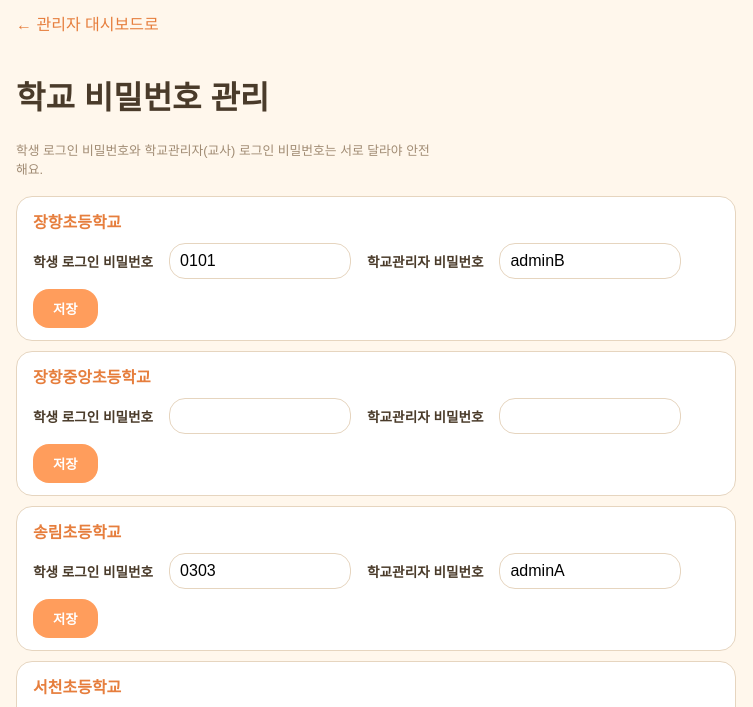
Test: SchoolPasswordsPage (전체관리자로 로그인) › 학생/관리자 비밀번호 저장이 둘 다 실패하면 에러 문구를 보여준다
Click the button "저장" below "송림초등학교" at (65, 618), box top-left (33, 599), bottom-right (98, 638)
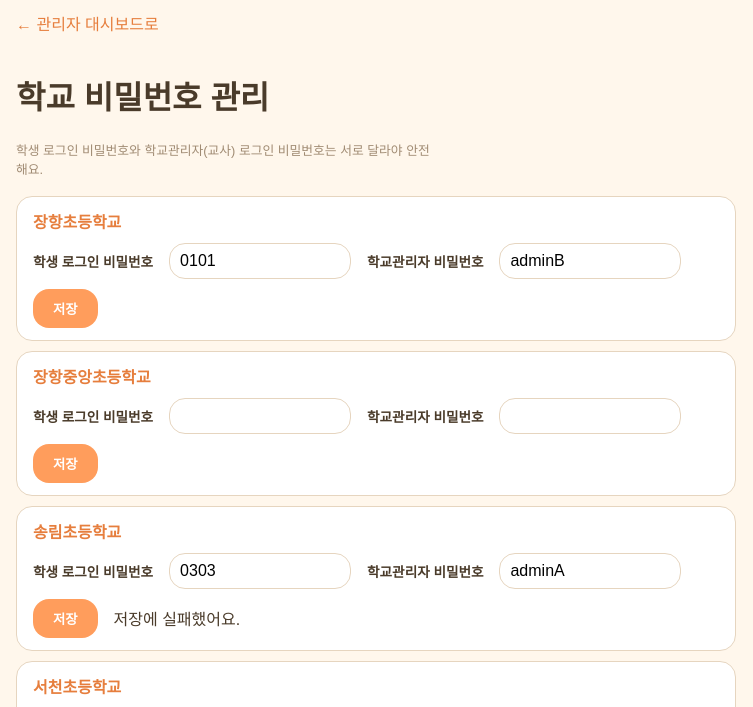
Result: the message shows "저장에 실패했어요" at top-left (114, 611), bottom-right (240, 628)
